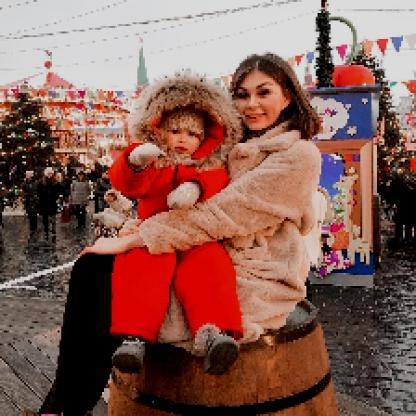child: (106, 72, 246, 377)
